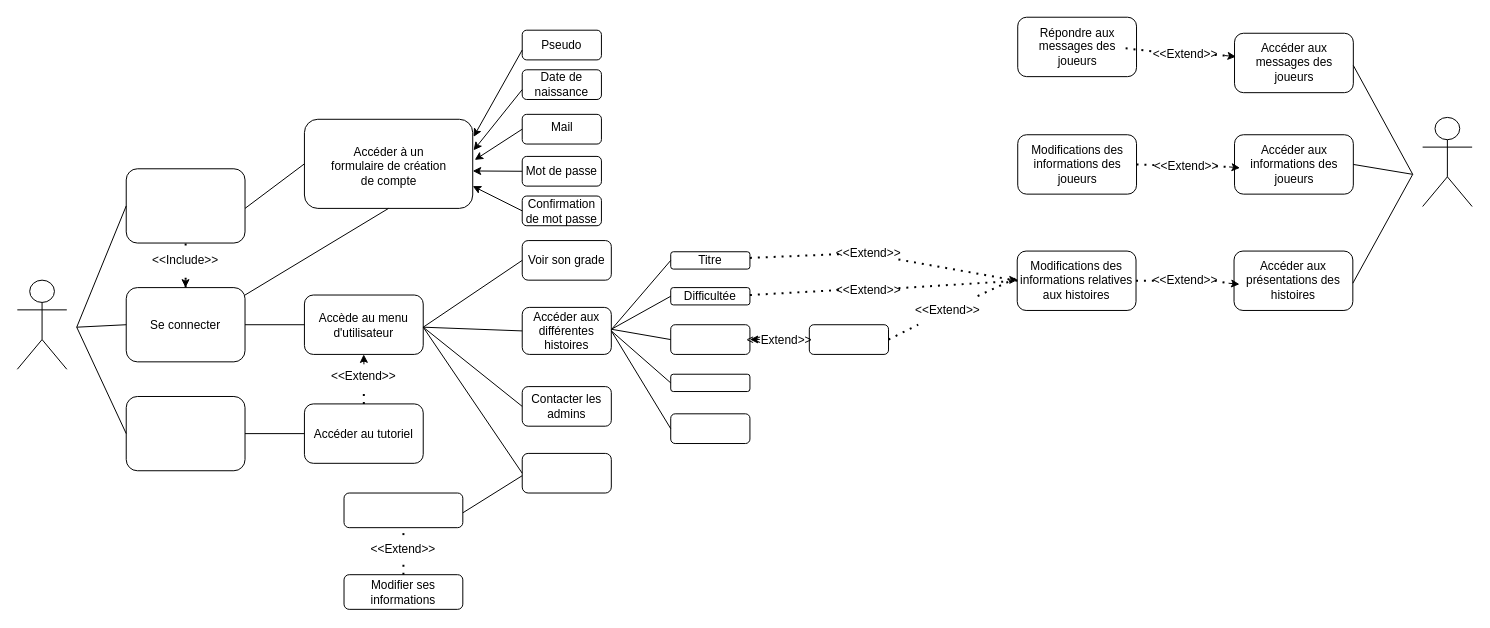
Image size: 1490x628. Some labels were removed from this diagram. The shapes that lost their labels are listed below. From the top down, each one's centre as x and y in pixels, then its label:
At pixel 1447 161: "Admins".
At pixel 185 205: "Créer un compte".
At pixel 41 324: "Joueurs".
At pixel 710 339: "Début du résumé".
At pixel 848 339: "Intégralité du résumé".
At pixel 710 382: "Complétion".
At pixel 185 433: "Jouer en non connecté".
At pixel 710 428: "Lancer l'histoire".
At pixel 566 472: "Icone utilisateur".
At pixel 403 510: "Accéder à ses informations de profil".
